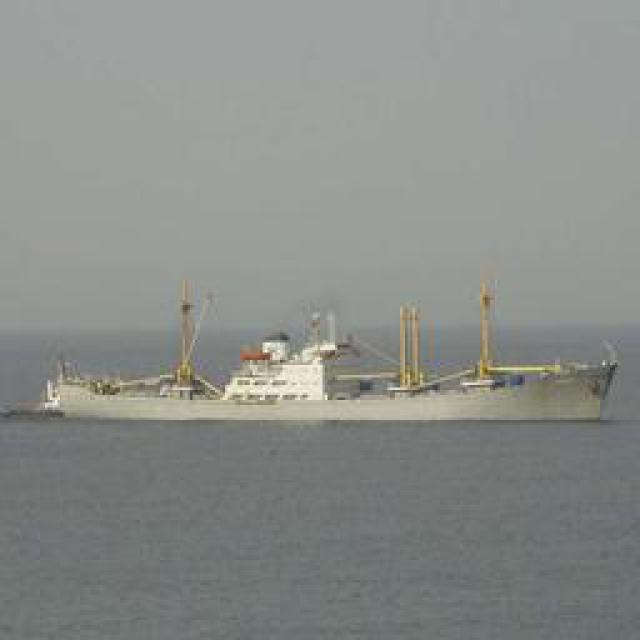Ship: (16, 286, 631, 424)
